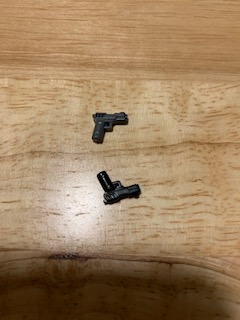pistol: (95, 170, 142, 206), (89, 111, 130, 146)
